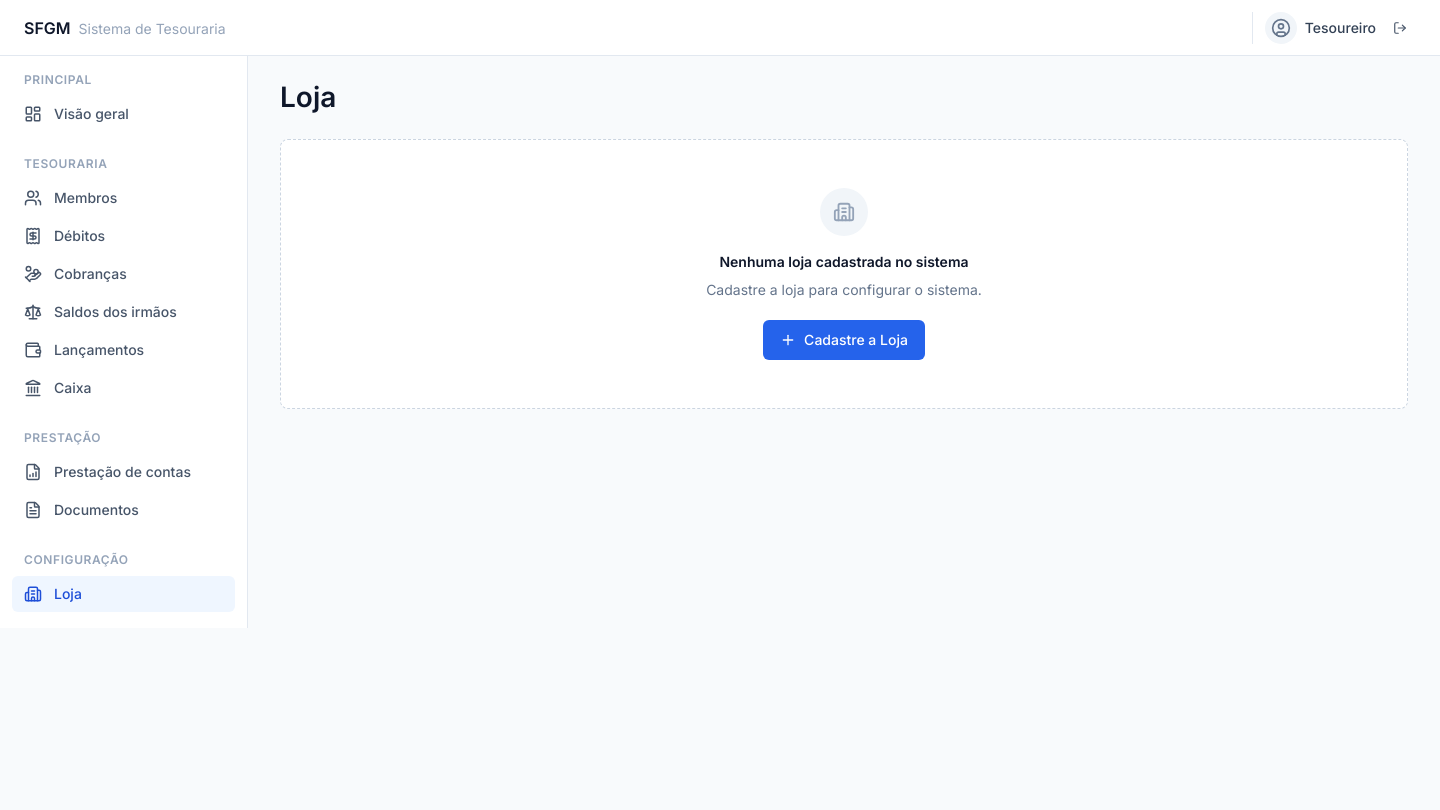
Cadastro da Loja (CriarLojaModal) › mantém o modal aberto e exibe a mensagem do 409 (CNPJ duplicado)
Click the button "Cadastre a Loja" at (844, 340), box [763,320,925,360]
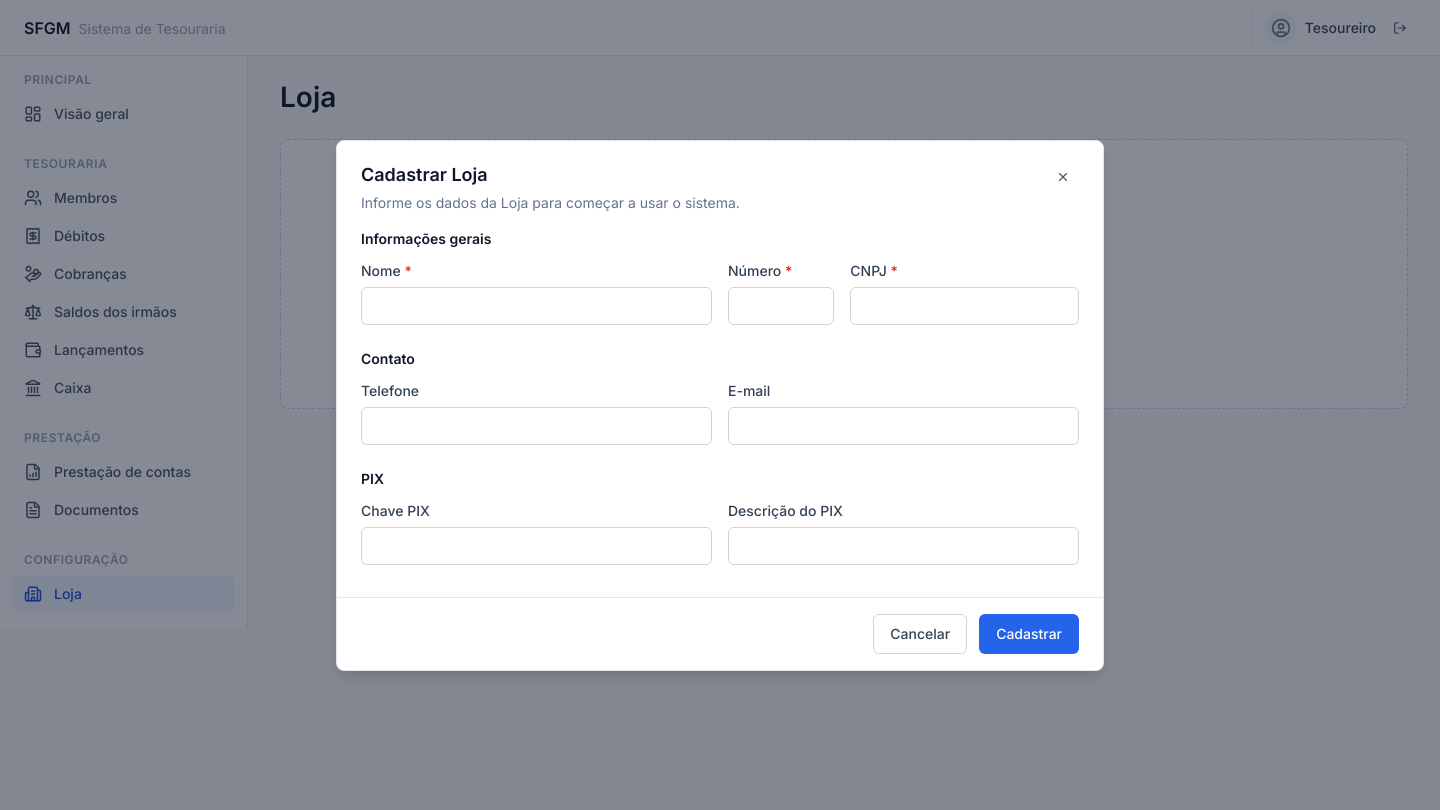
Type "Loja Nova" into the field labelled "Nome *" at (536, 306), box [361,286,712,324]
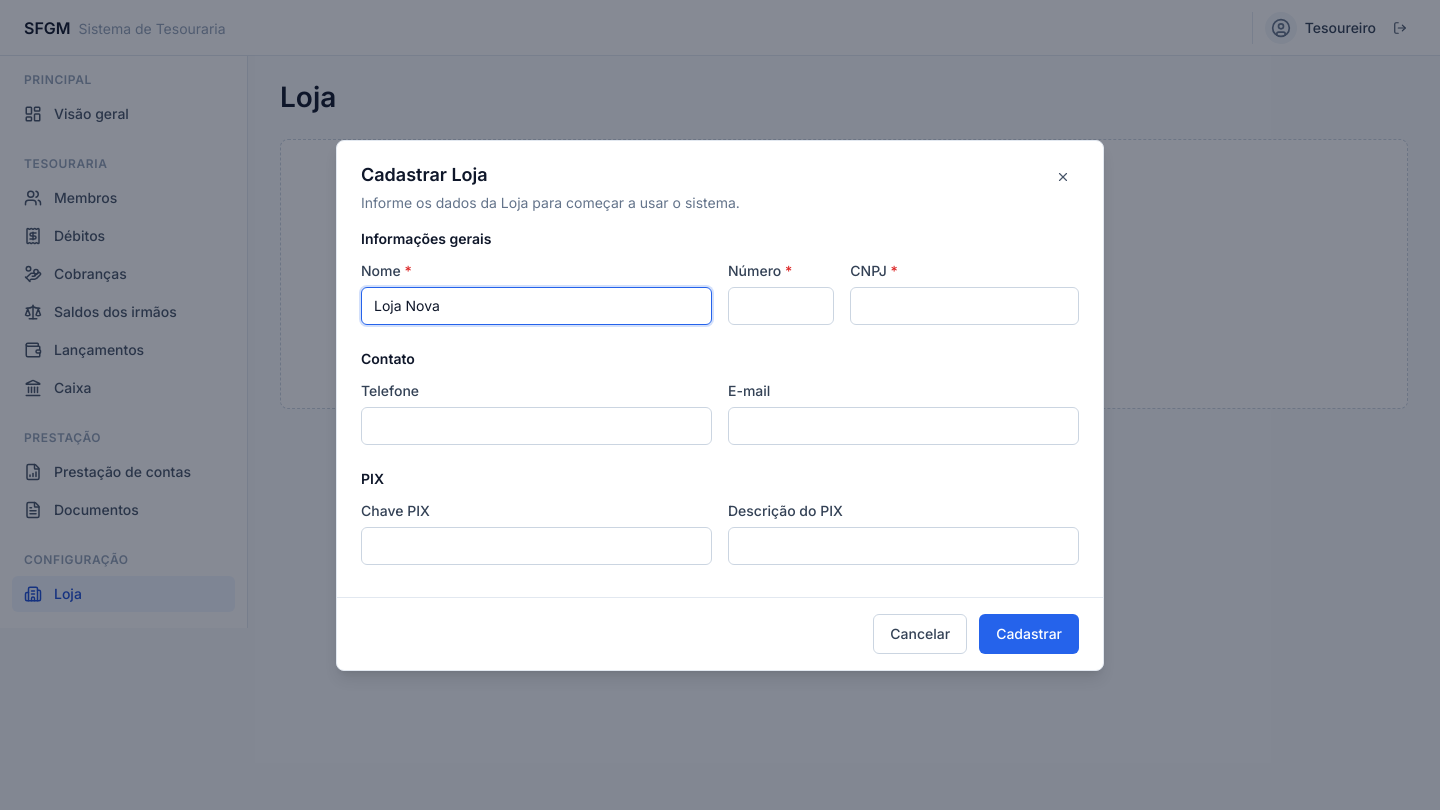
Type "42" into the field labelled "Número *" at (781, 306), box [728,286,834,324]
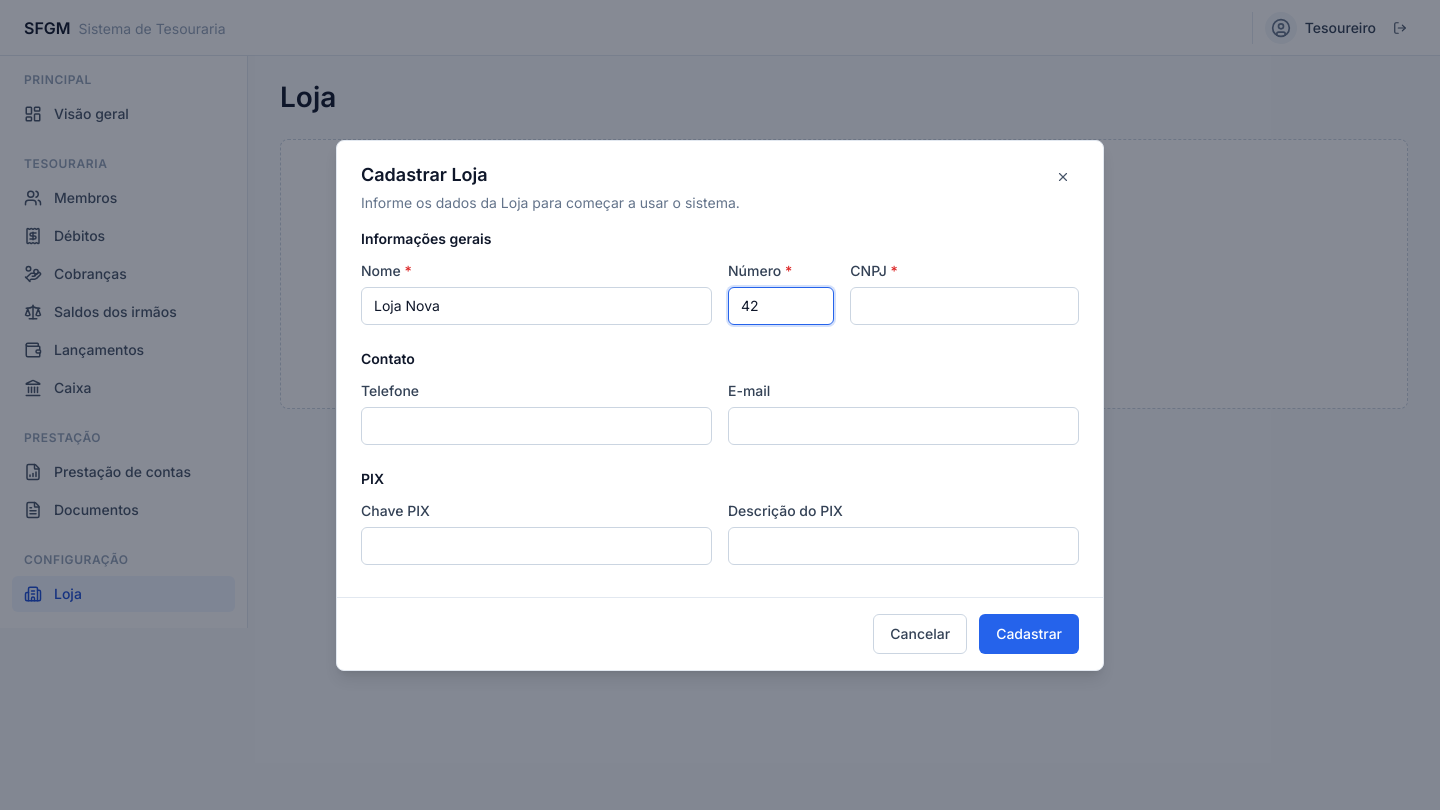
Type "11.111.111/0001-11" into the field labelled "CNPJ *" at (965, 306), box [850,286,1079,324]
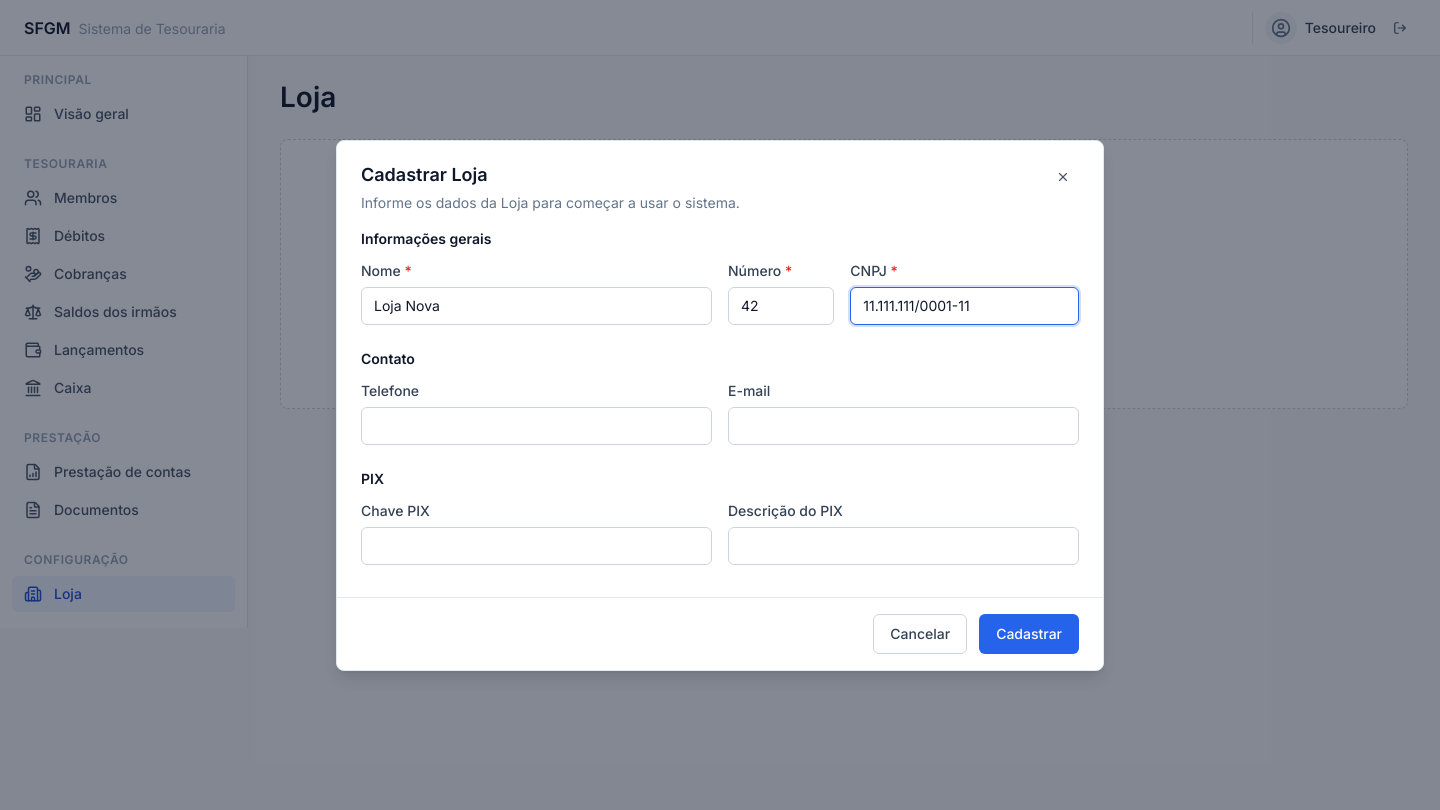
Click the button "Cadastrar" at (1029, 634), box [979,614,1079,654]
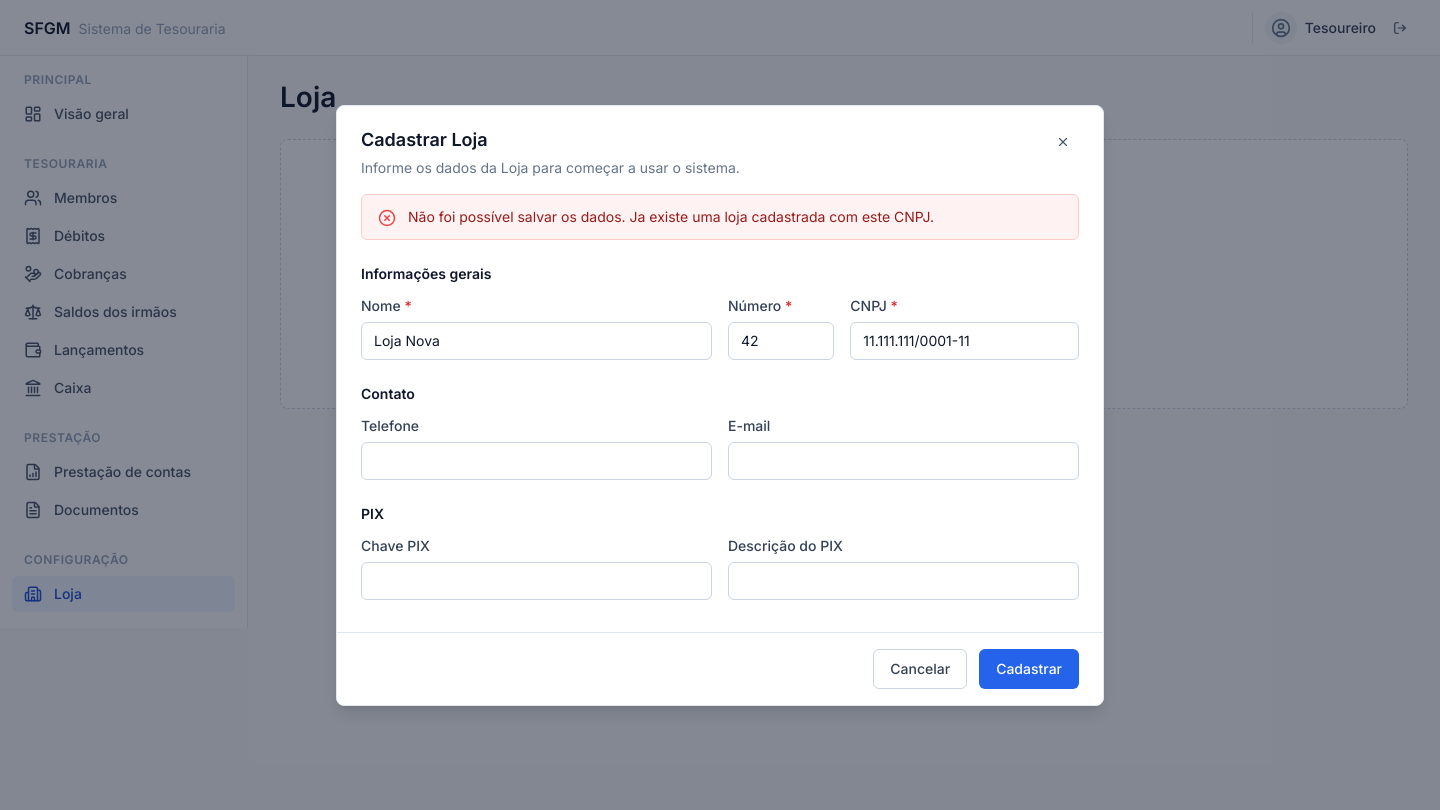
Now the dialog "Cadastrar Loja" is shown, box [336,104,1104,706]
Now the button "Cadastrar" is enabled, box [979,648,1079,688]
Now the message reads "Não foi possível salvar os dados. Ja existe uma loja cadastrada com este CNPJ.", box [361,194,1079,240]
